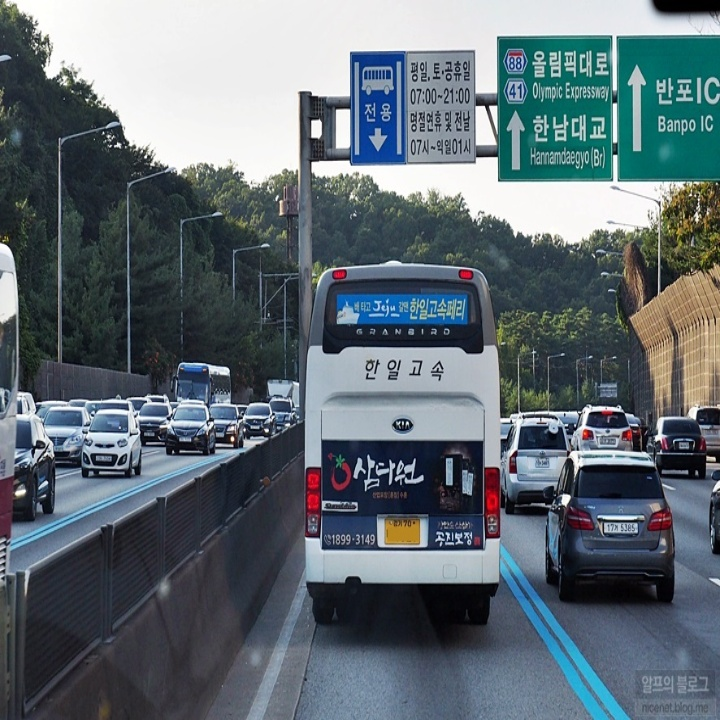bus: (357, 61, 396, 98)
